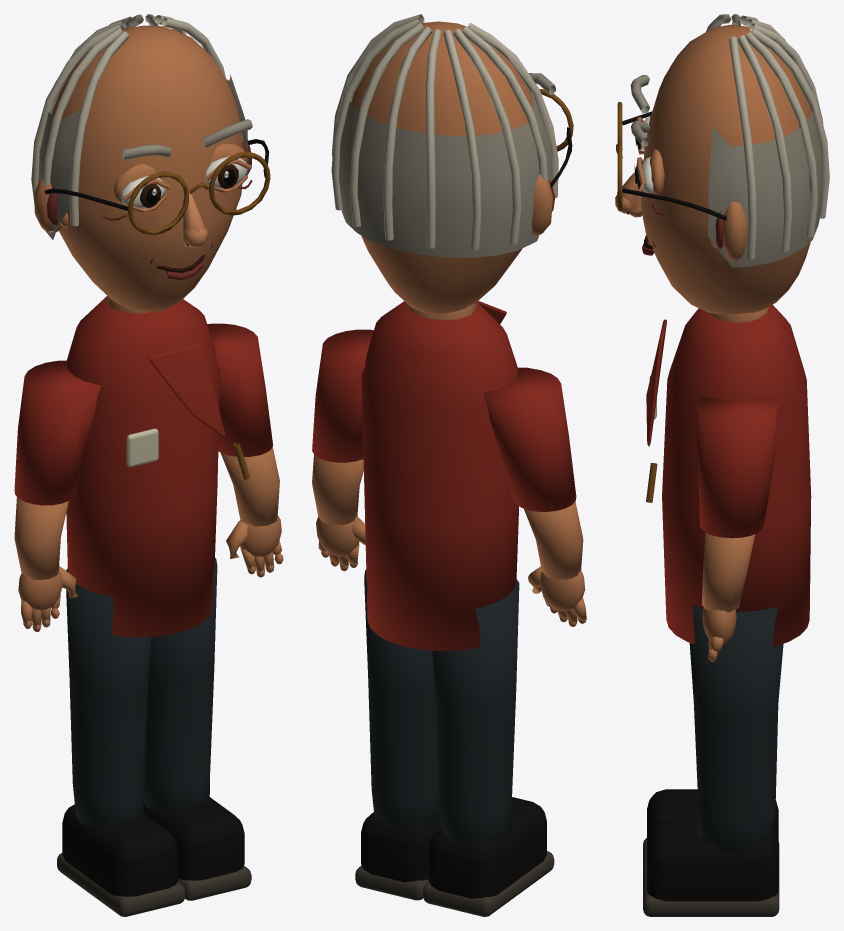
Rendered from receptionist-06.glb.
The picture shows the model from 3 angles, left to right: view 1: azimuth 30°, elevation 25°; view 2: azimuth 150°, elevation 25°; view 3: azimuth 270°, elevation 25°; orthographic projection. The views are drawn at different scales.
Visible parts, largest first — view 1: Head, Body, LegL, LegR, ArmL, ArmR; view 2: Head, Body, LegL, LegR, ArmL, ArmR; view 3: Head, Body, LegR, ArmR, LegL.
Boxes of the visible parts, <box> form: Head: <box>31,14,270,313</box>; Body: <box>66,295,249,637</box>; LegL: <box>57,568,185,916</box>; LegR: <box>143,558,251,900</box>; ArmL: <box>14,360,101,631</box>; ArmR: <box>207,323,283,577</box>; Head: <box>331,14,573,320</box>; Body: <box>361,301,519,651</box>; LegL: <box>423,579,554,916</box>; LegR: <box>355,569,441,900</box>; ArmL: <box>483,367,586,626</box>; ArmR: <box>312,329,373,571</box>; Head: <box>615,14,829,322</box>; Body: <box>646,304,811,646</box>; LegR: <box>643,605,783,916</box>; ArmR: <box>696,396,777,661</box>; LegL: <box>643,789,779,875</box>.
Bounding box in the file's own units: 0.4882 × 1.52 × 0.3434.
